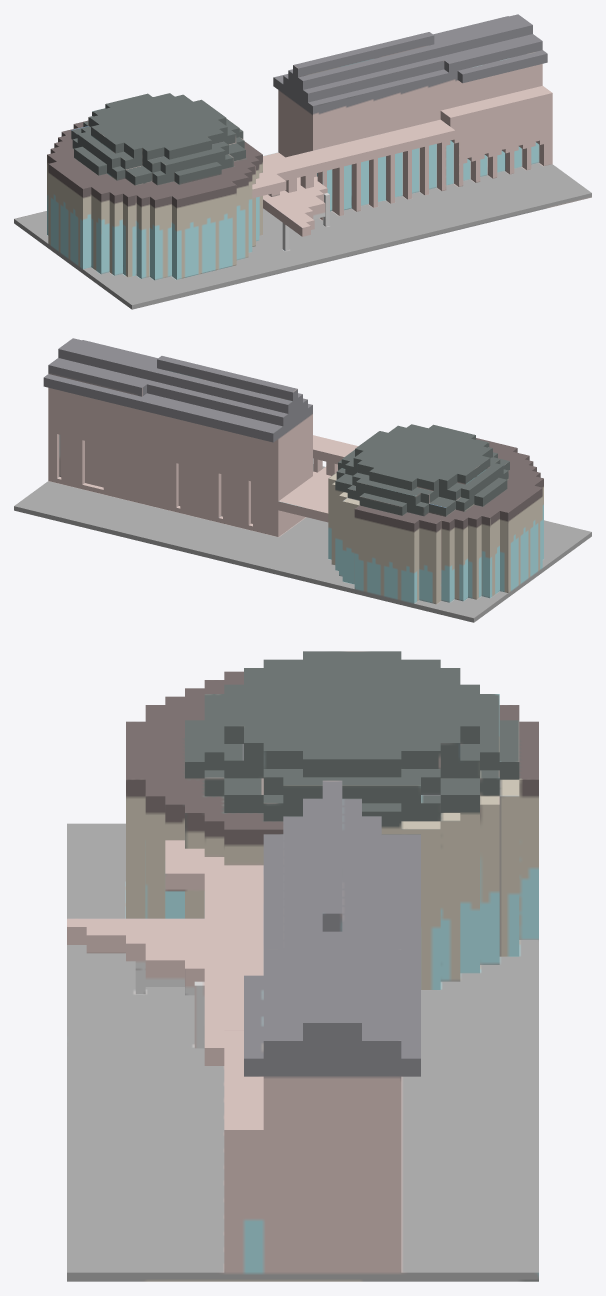
Rendered from kagoshimaarena.glb.
3 renders of one model, top to bottom at view 1: azimuth 30°, elevation 25°; view 2: azimuth 150°, elevation 25°; view 3: azimuth 270°, elevation 25°, orthographic. The views are drawn at different scales.
Visible parts, largest first — view 1: kagoshimaarena; view 2: kagoshimaarena; view 3: kagoshimaarena.
Boxes of the visible parts, <box> form: kagoshimaarena: <box>14,14,591,309</box>; kagoshimaarena: <box>14,338,591,622</box>; kagoshimaarena: <box>67,651,538,1281</box>.
Bounding box in the file's own units: 2.16 × 0.62 × 0.96.
Materials: 1 (1 with a texture image).
